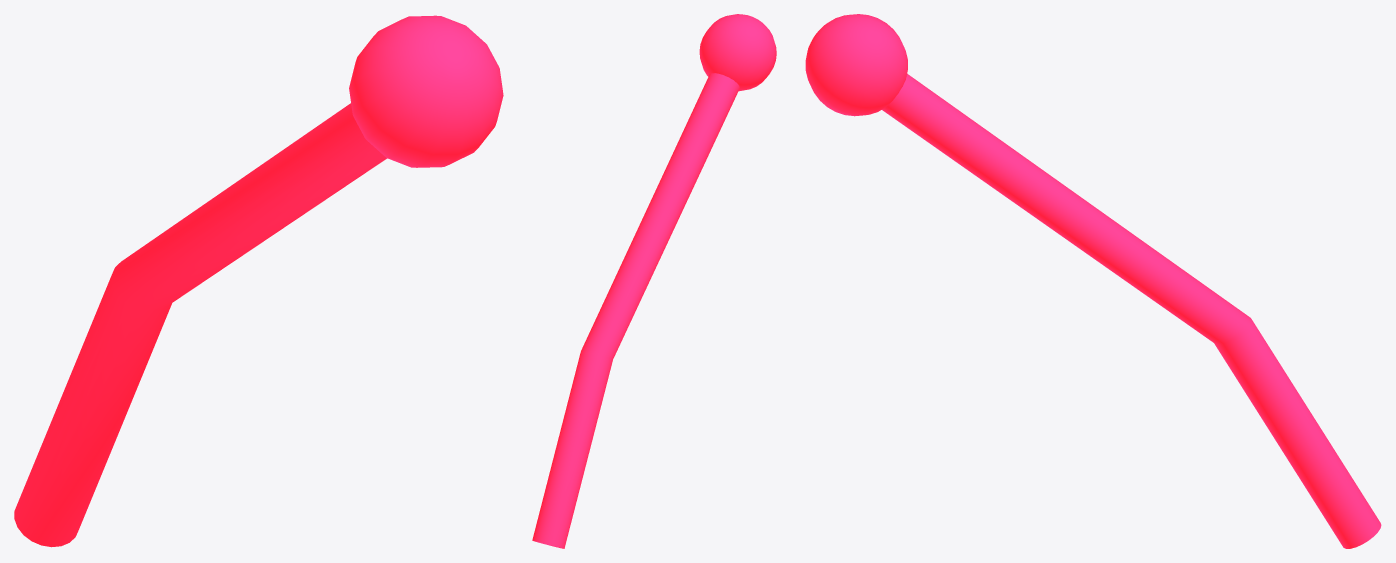
File: lever.glb
The picture shows the model from 3 angles, left to right: view 1: azimuth 30°, elevation 25°; view 2: azimuth 150°, elevation 25°; view 3: azimuth 270°, elevation 25°; orthographic projection. The views are drawn at different scales.
Visible parts, largest first — view 1: polySurface73; view 2: polySurface73; view 3: polySurface73.
Boxes of the visible parts, <box> form: polySurface73: <box>14,15,503,547</box>; polySurface73: <box>532,14,776,548</box>; polySurface73: <box>805,14,1381,548</box>.
Size of the model in its own units: 0.0744 by 0.4203 by 0.4165.
